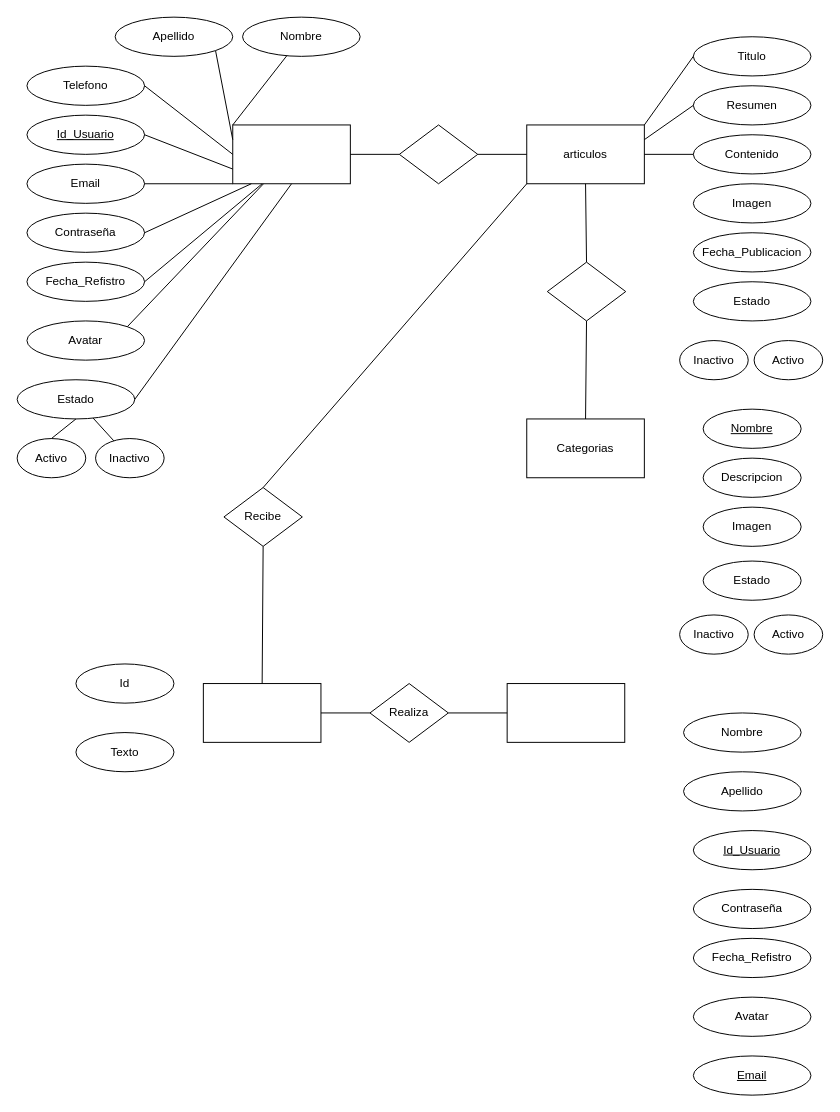
Some shapes in this 840 by 1112 pixel diagram are drawn without their labels. Here are the shapes that lost their labels. From the top down, the centre of each, then its label:
point 291,154: Colaboradores
point 438,154: Escriben
point 586,291: Tienen
point 261,712: comentarios
point 565,712: Publico_Registrado
